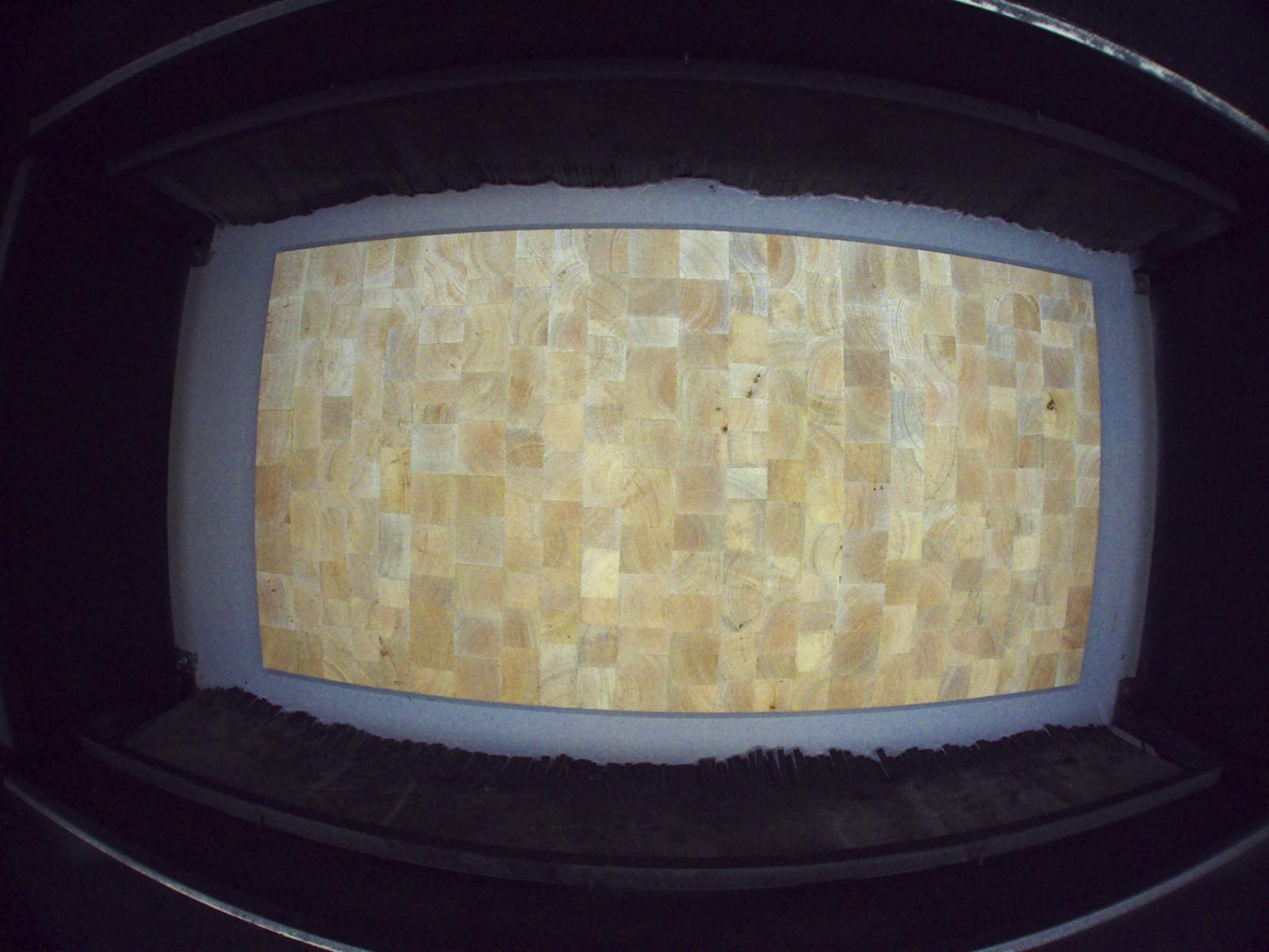sheck_ecuatoriano: (1043, 385, 1059, 430)
